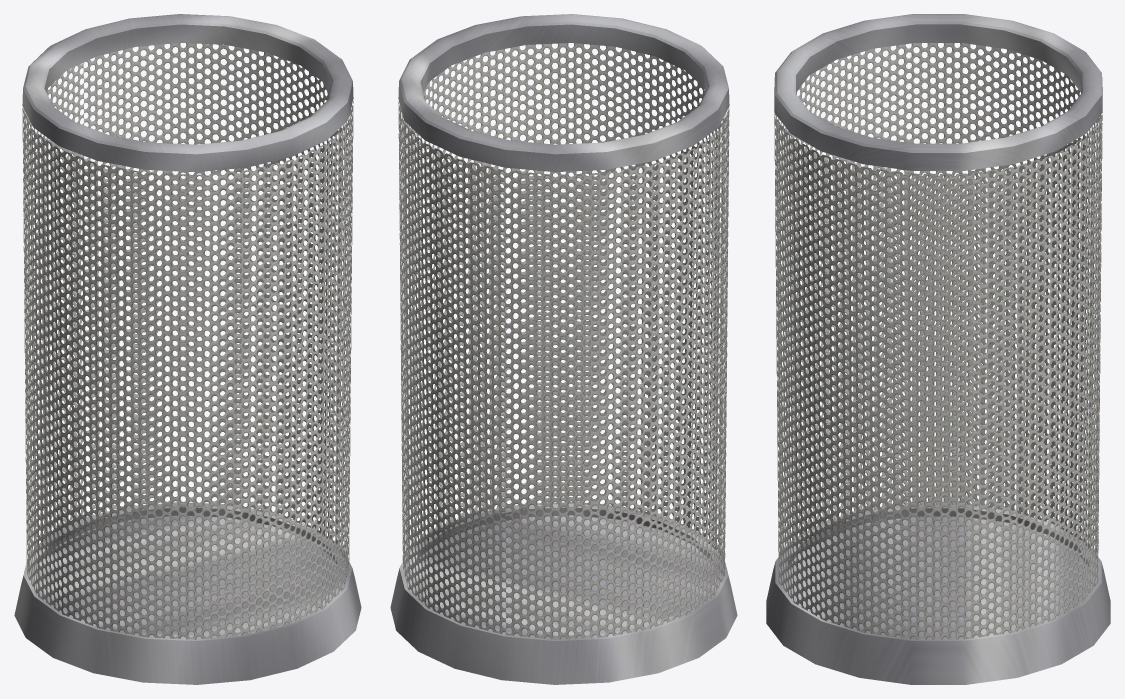
The model's file is dustbin.fbx.
3 renders of one model, left to right at view 1: azimuth 30°, elevation 25°; view 2: azimuth 150°, elevation 25°; view 3: azimuth 270°, elevation 25°, orthographic.
Visible parts, largest first — view 1: dustbin; view 2: dustbin; view 3: dustbin.
Boxes of the visible parts, x1,y1,x2,y2 form: dustbin: (14, 14, 361, 684); dustbin: (390, 14, 737, 684); dustbin: (766, 14, 1110, 684).
Size of the model in its own units: 2.15 by 3.68 by 2.15.
1 material, 1 textured.
